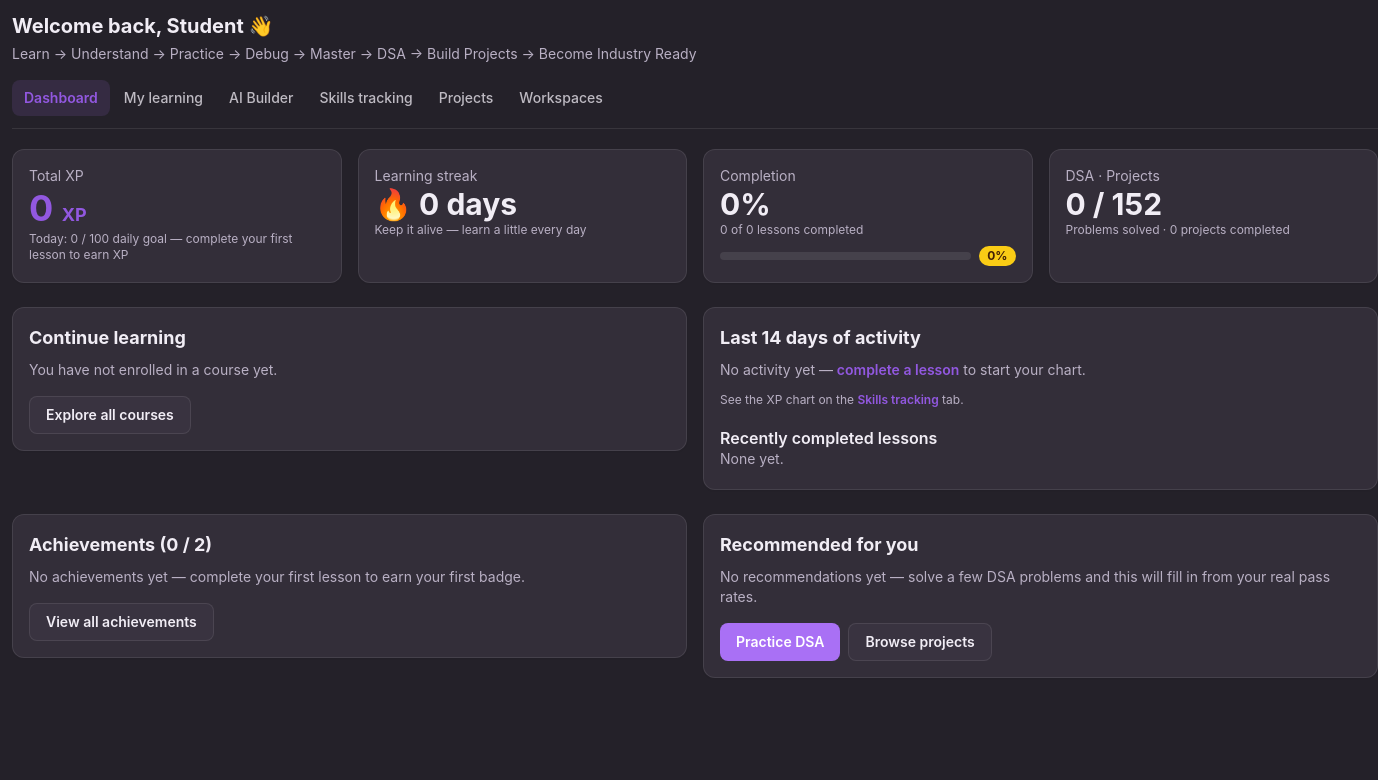
Test case: DashboardPage My Home tabs › Workspaces tab lists real in-progress project workspaces, not fake cloud ones
Expected: the element with test id "total-xp" is shown, [29,186,87,230]
Click the button "Workspaces": (561, 98) [507,80,615,116]
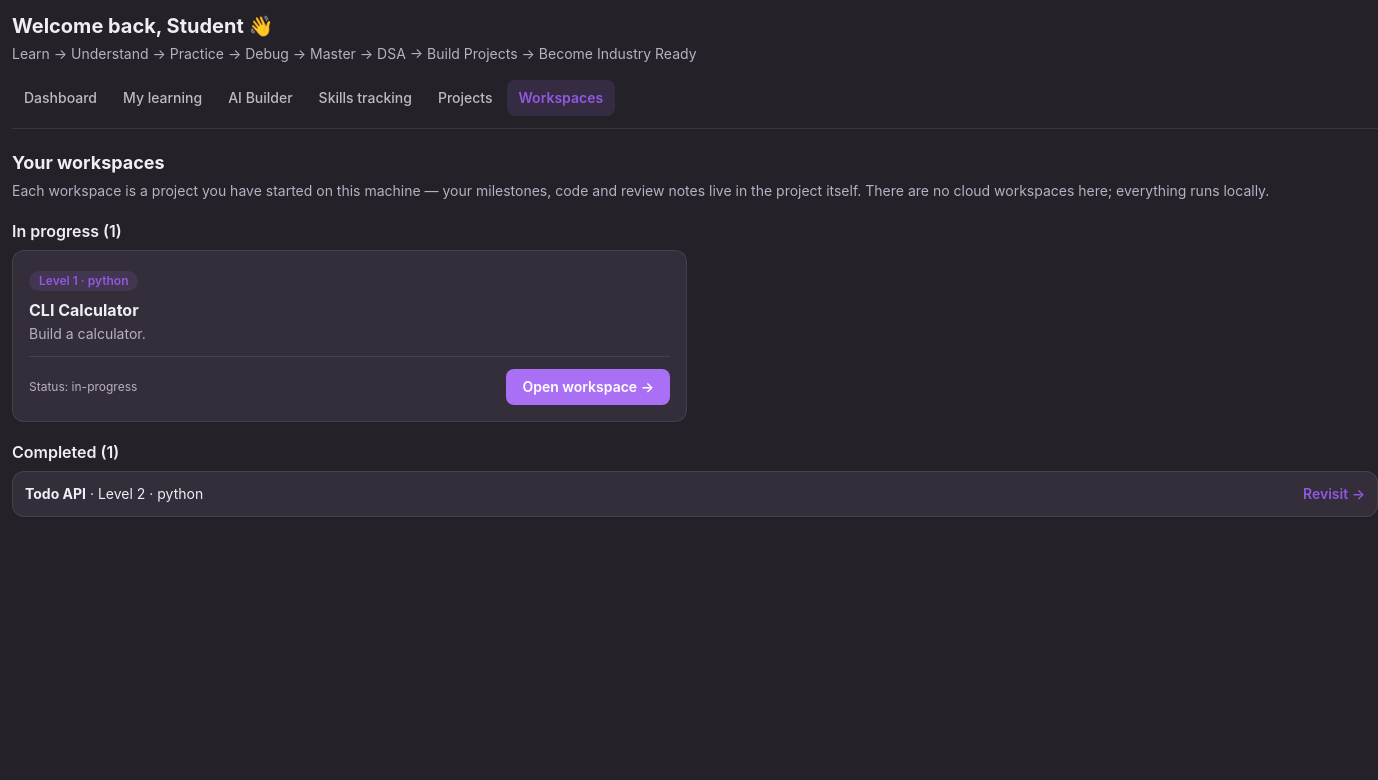
Expected: the heading "Your workspaces" is shown, [12,152,165,173]
Expected: the heading "CLI Calculator" is shown, [29,300,139,320]
Expected: the text "Todo API" is shown, [25,485,86,502]
